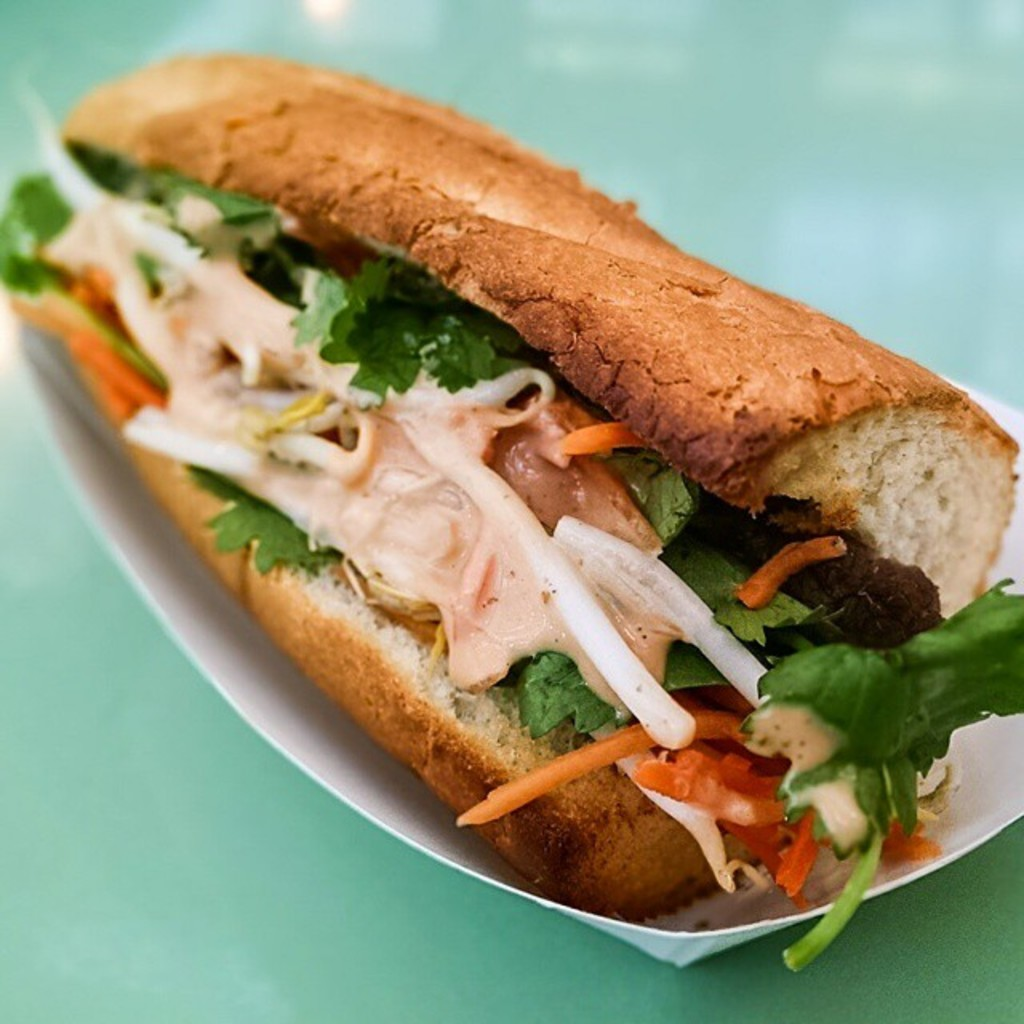sandwich: (0, 45, 1021, 973)
